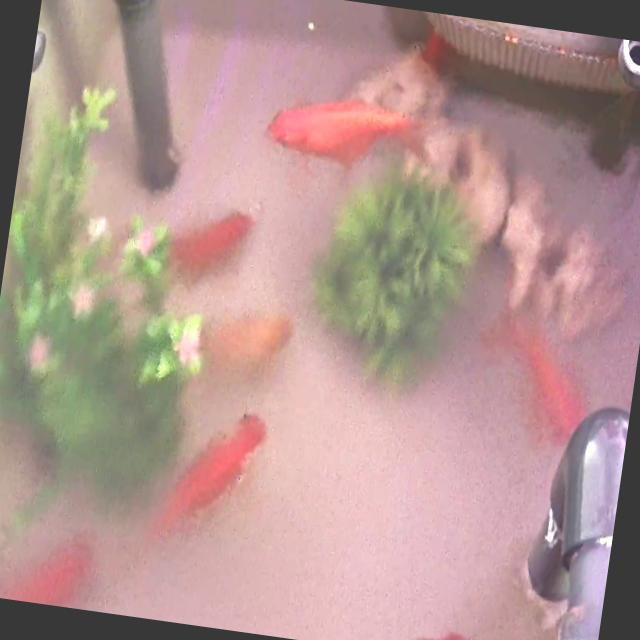fish: (146, 400, 269, 557), (476, 311, 589, 434), (266, 87, 400, 173), (0, 521, 99, 611), (163, 200, 258, 291), (196, 304, 294, 383), (398, 624, 529, 640)
